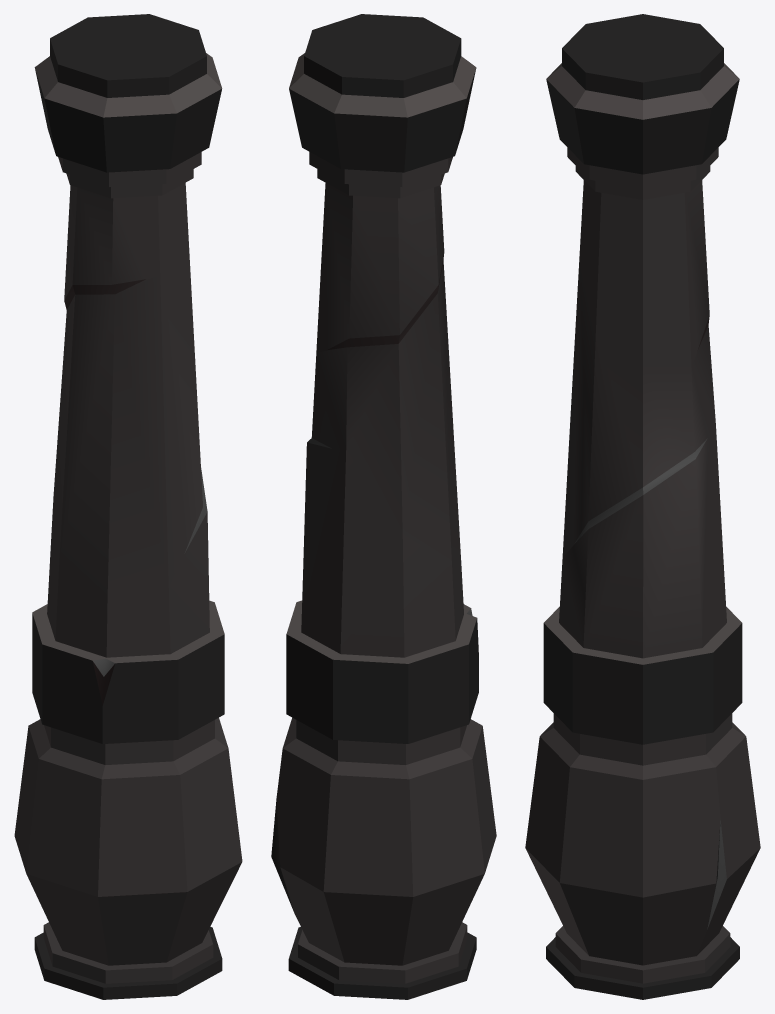
The model's file is Pillar_Cylinder_04.glb.
3 views of the same model, side by side, from view 1: azimuth 30°, elevation 25°; view 2: azimuth 150°, elevation 25°; view 3: azimuth 270°, elevation 25° (orthographic).
Visible parts, largest first — view 1: Pillar_Cylinder_04; view 2: Pillar_Cylinder_04; view 3: Pillar_Cylinder_04.
Part boxes in pixels (x1,y1,x2,y2): Pillar_Cylinder_04: (14,14,242,999); Pillar_Cylinder_04: (271,14,496,999); Pillar_Cylinder_04: (525,14,760,999).
Size of what is drawn, in the model's own units: 0.9369 by 4 by 0.9369.
Materials: 1 (1 with a texture image).
